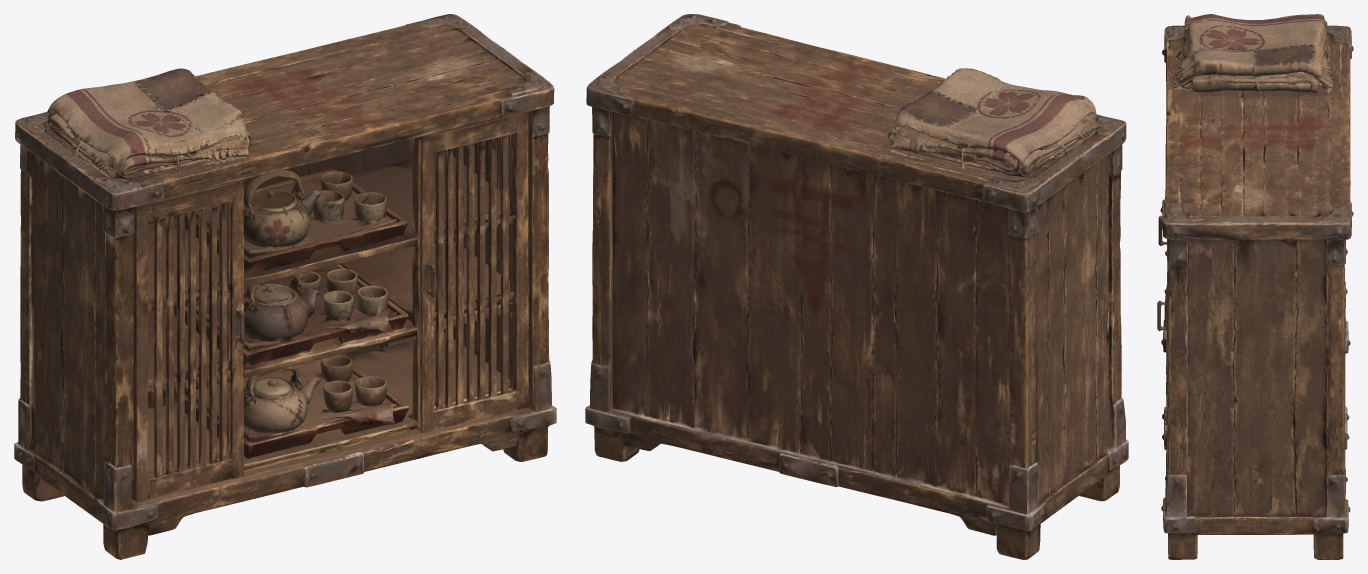
Rendered from teaset-cabinet.glb.
The picture shows the model from 3 angles, left to right: view 1: azimuth 30°, elevation 25°; view 2: azimuth 150°, elevation 25°; view 3: azimuth 270°, elevation 25°; orthographic projection. The views are drawn at different scales.
Bounding box in the file's own units: 1.9 × 1.64 × 0.7875.
Materials: 1 (1 with a texture image).
